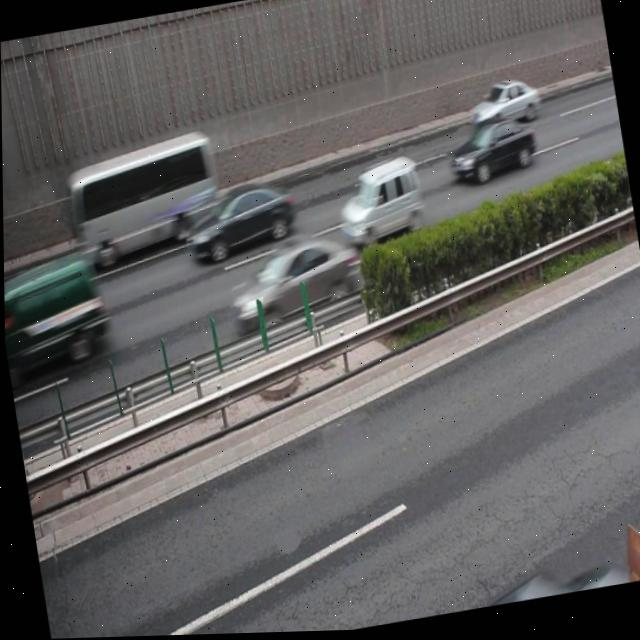car: (226, 237, 370, 330), (187, 182, 297, 262), (482, 562, 622, 610), (445, 117, 540, 187), (469, 77, 542, 136)
truck: (3, 249, 110, 373), (334, 156, 427, 254)
van: (64, 133, 229, 273)
